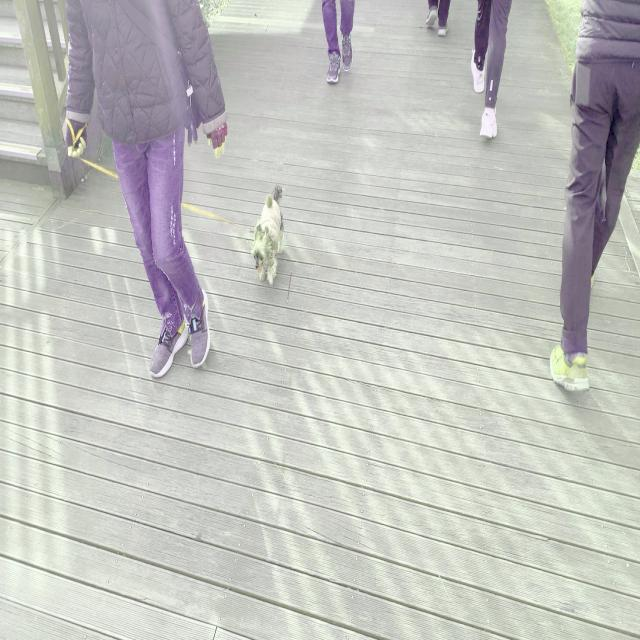Leashed_Dog: (147, 154, 286, 290)
